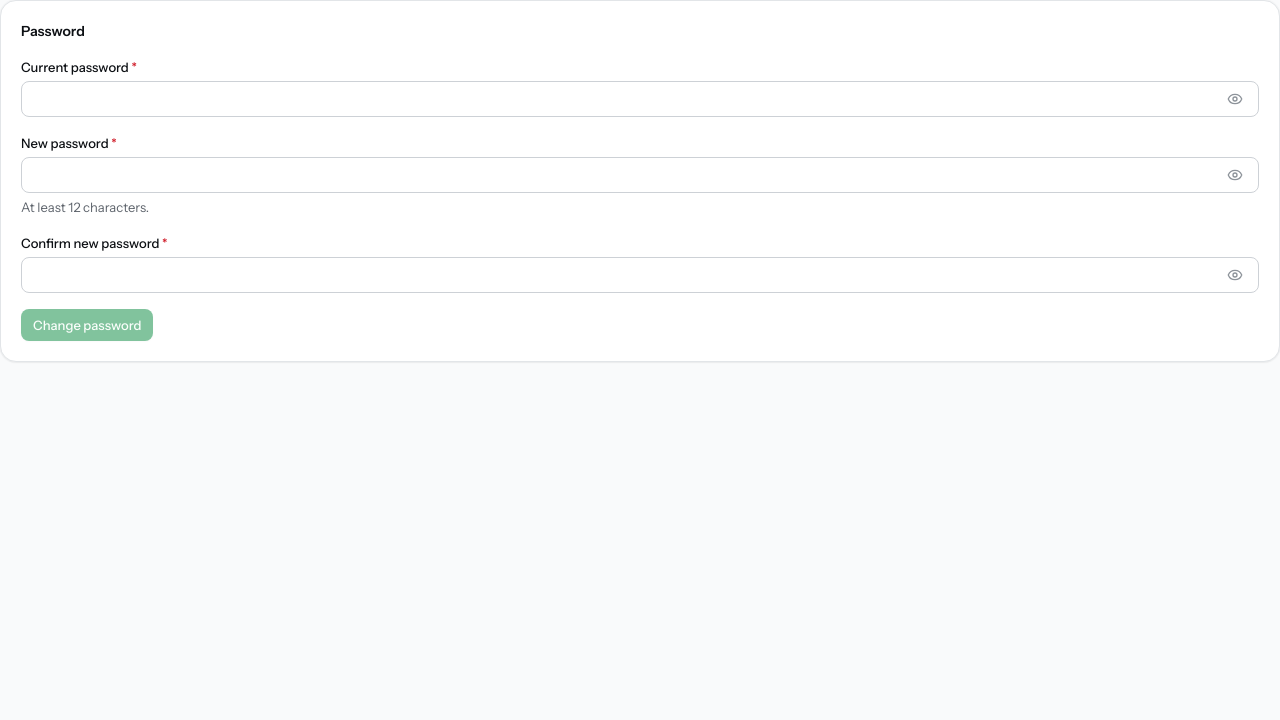
Test case: ChangePasswordCard › change_password_posts_the_contract_body_and_resets_on_success
The image size is (1280, 720).
Step 1. Type "current-password-1" into the password field with test id "security-password-current" → [640, 99], box [21,81,1259,117]
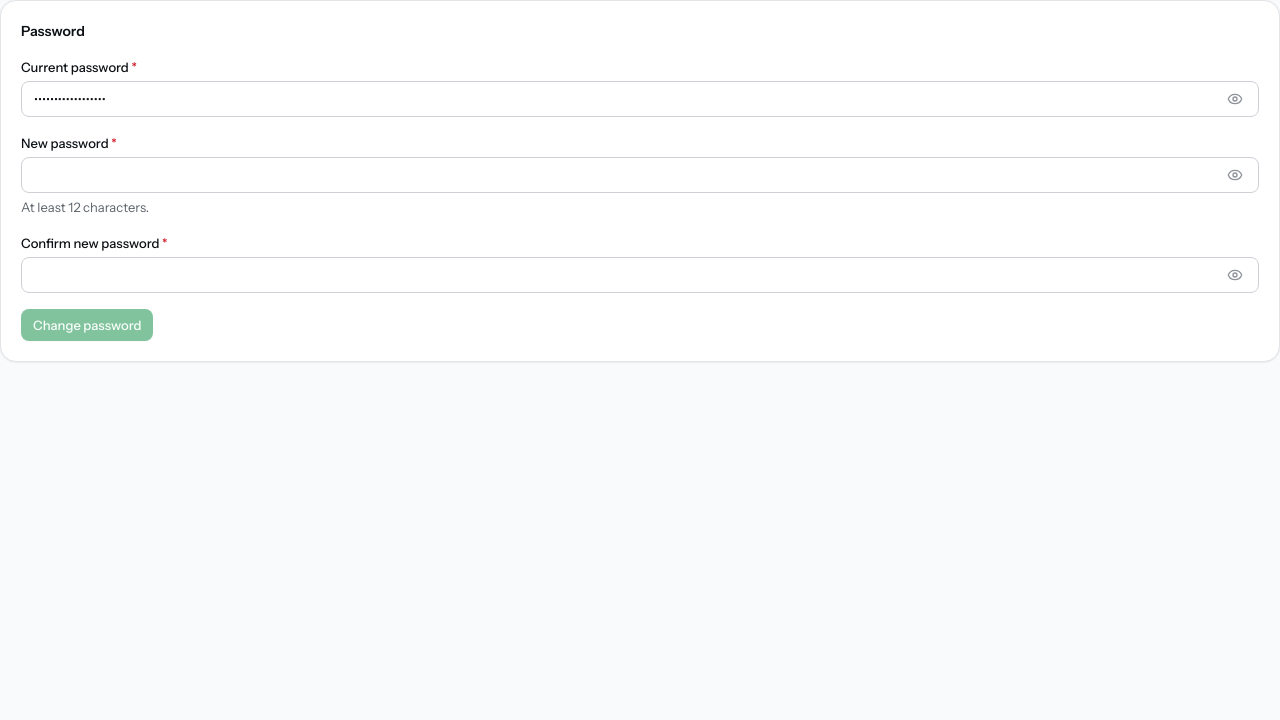
Step 2. Type "brand-new-password-1" into the password field with test id "security-password-new" → [640, 175], box [21,157,1259,193]
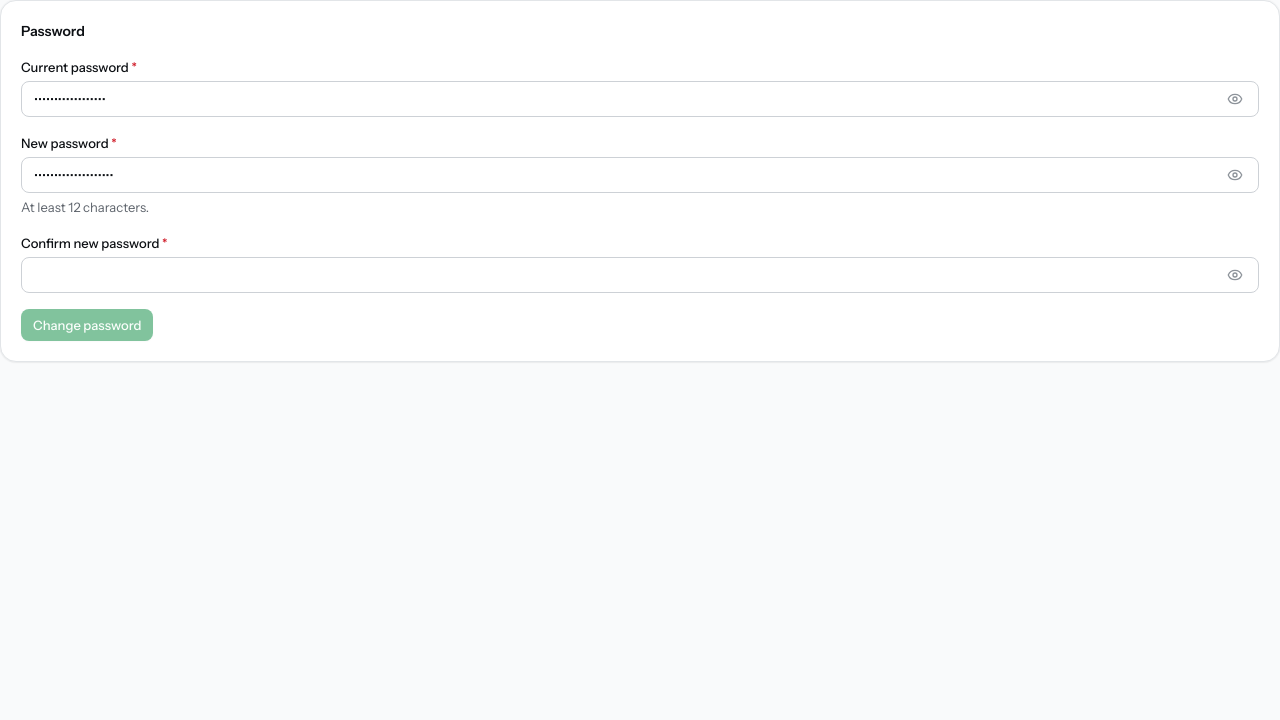
Step 3. Type "brand-new-password-1" into the password field with test id "security-password-confirm" → [640, 275], box [21,257,1259,293]
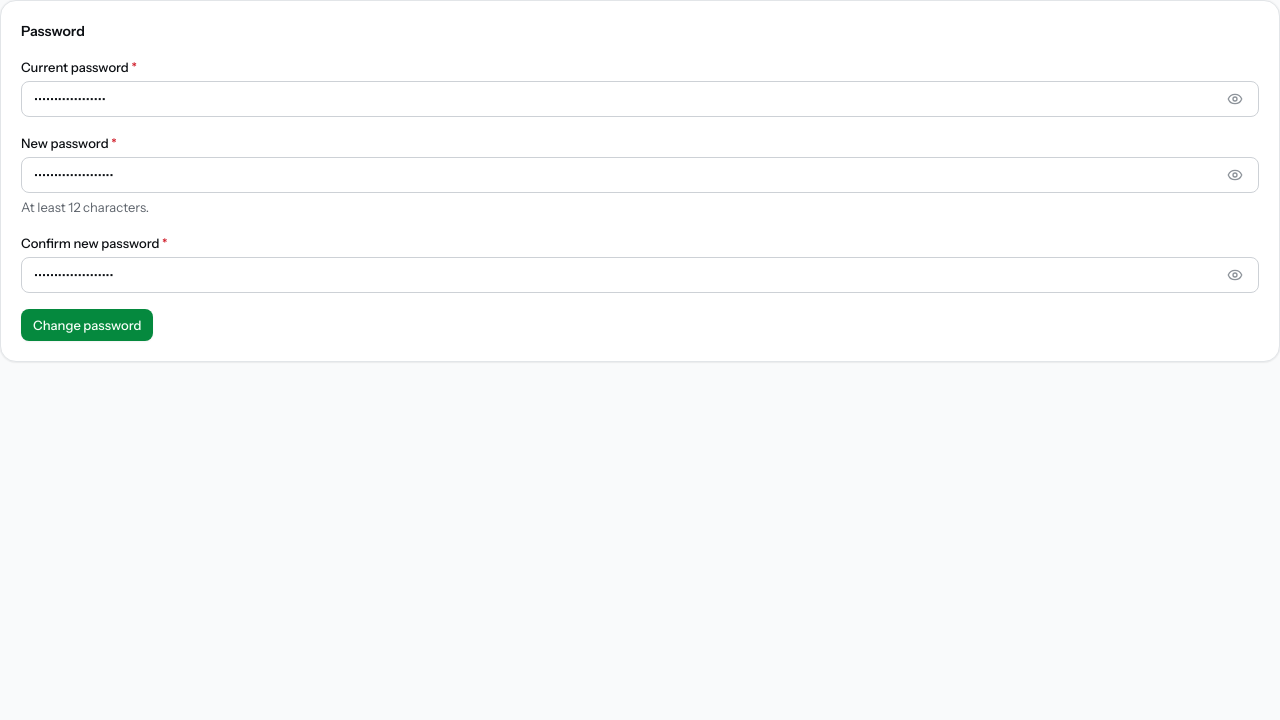
Expected: the button with test id "security-password-submit" is enabled
Step 4. Click the button with test id "security-password-submit" → [87, 325], box [21,309,154,341]
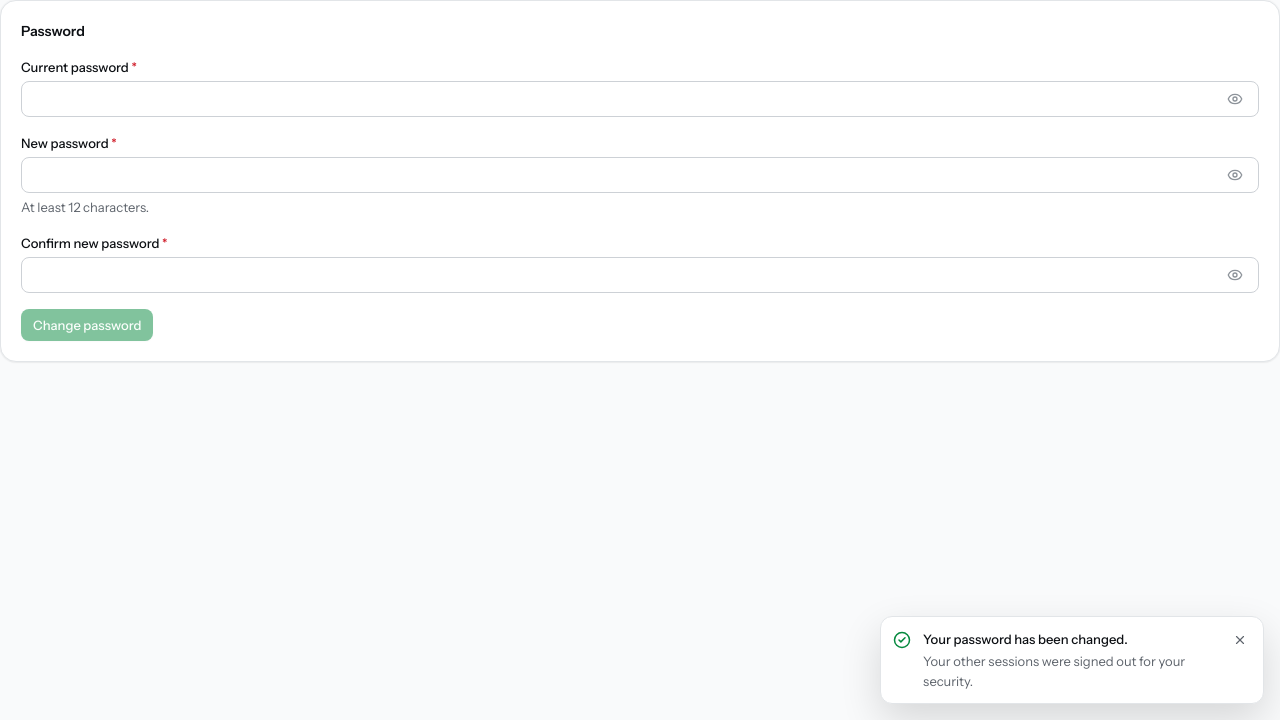
Expected: the text "Your password has been changed." is shown, [923,631,1128,647]
Expected: the text "Your other sessions were signed out for your security." is shown, [923,651,1217,691]
Expected: the password field with test id "security-password-current" is empty, [21,81,1259,117]
